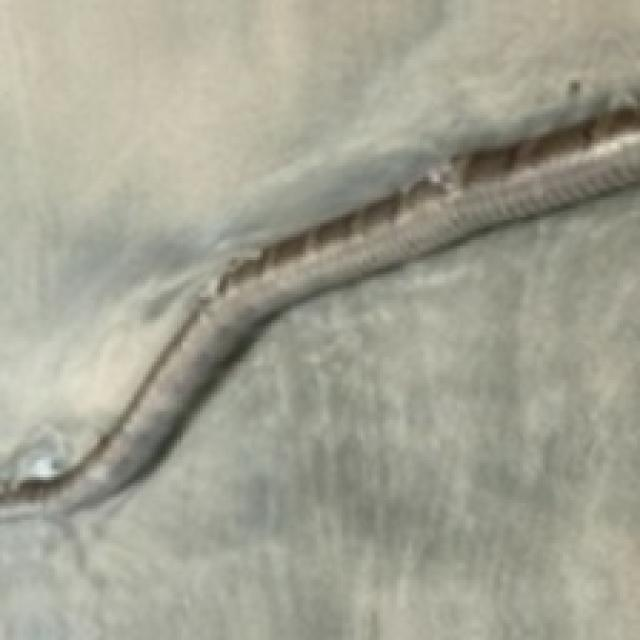king cobra: (0, 106, 637, 517)
